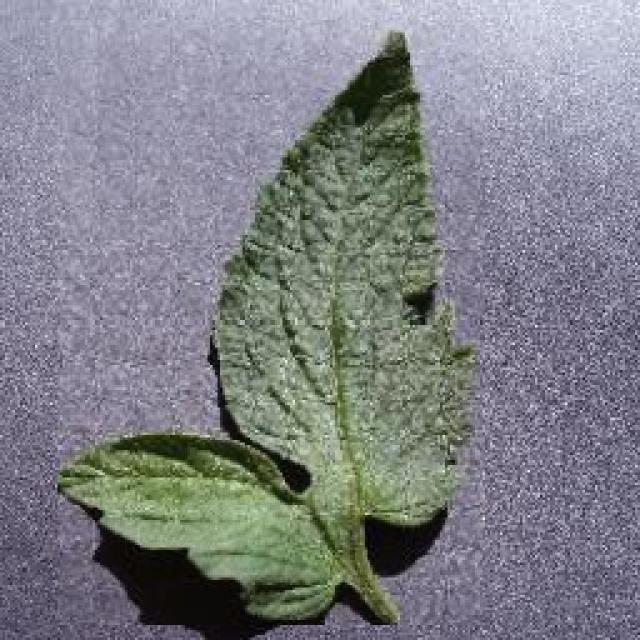Healthy: (57, 20, 485, 625)
